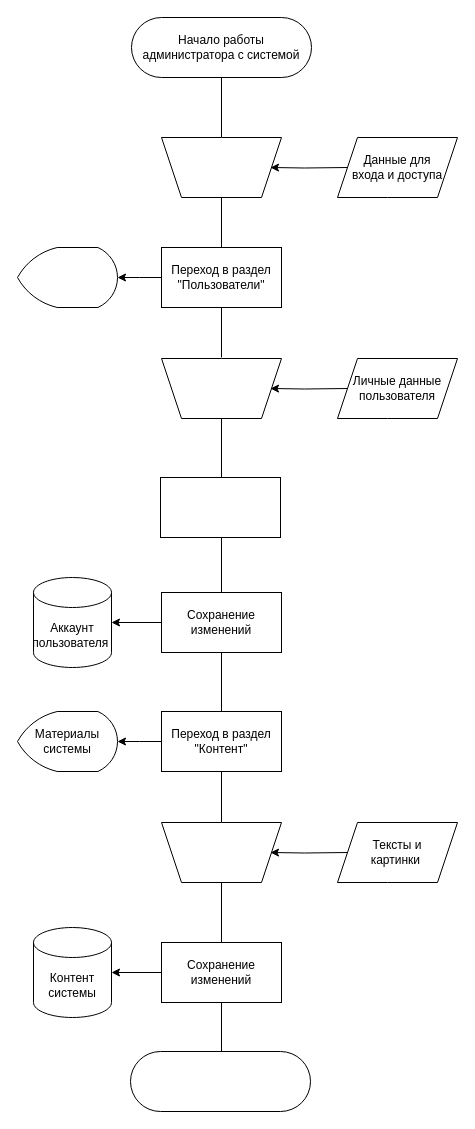
Some shapes in this 475 by 1129 pixel diagram are drawn without their labels. Here are the shapes that lost their labels. From the top down, the centre of each, then its label:
At (x=221, y=167): "Авторизация в системе".
At (x=67, y=277): "Список всех пользователей".
At (x=221, y=388): "Создание аккаунта пользователя".
At (x=220, y=507): "Генерация временного пароля".
At (x=221, y=852): "Редактирование текста и иллюстраций".
At (x=220, y=1081): "Конец работы администратора с системой".
